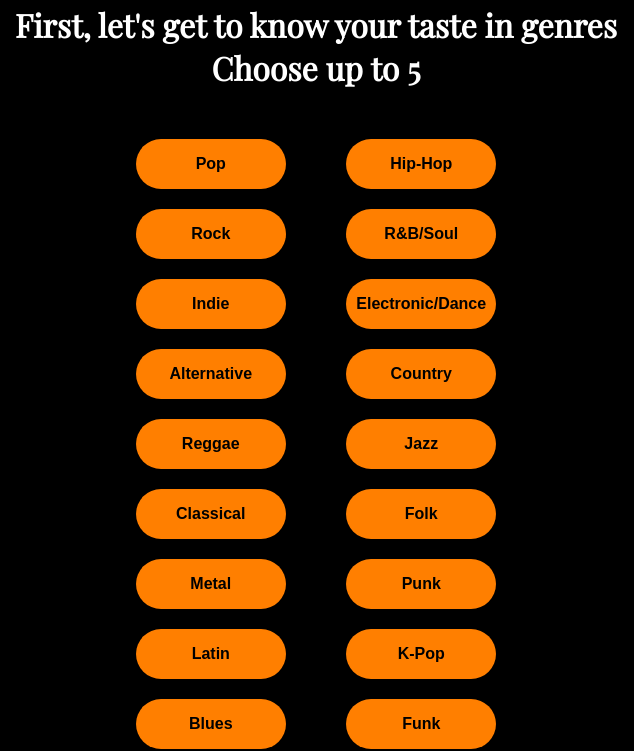
Test case: LandingPage › renders a Submit button once one genre is clicked
Click the button "Pop".
click(211, 164)  # box [136,139,286,189]
(page scrolled)
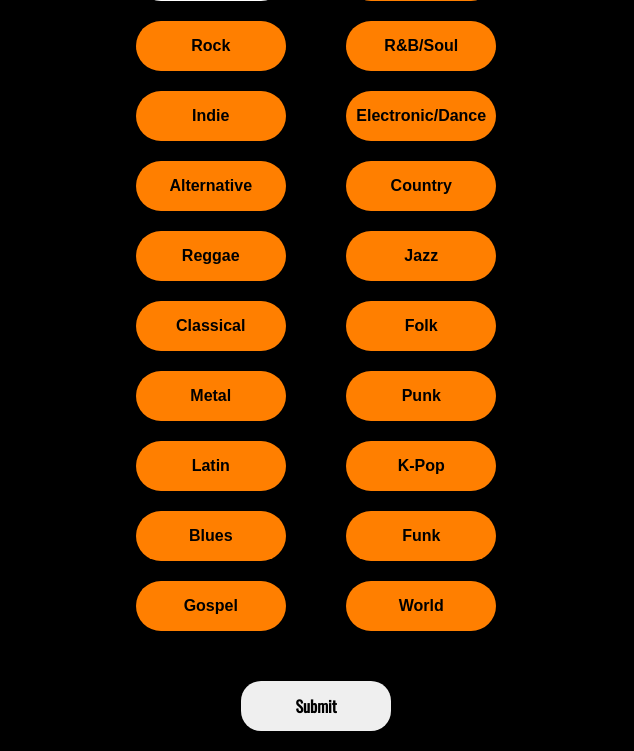
expect the button "Submit" is shown: met, box [241,681,391,731]
